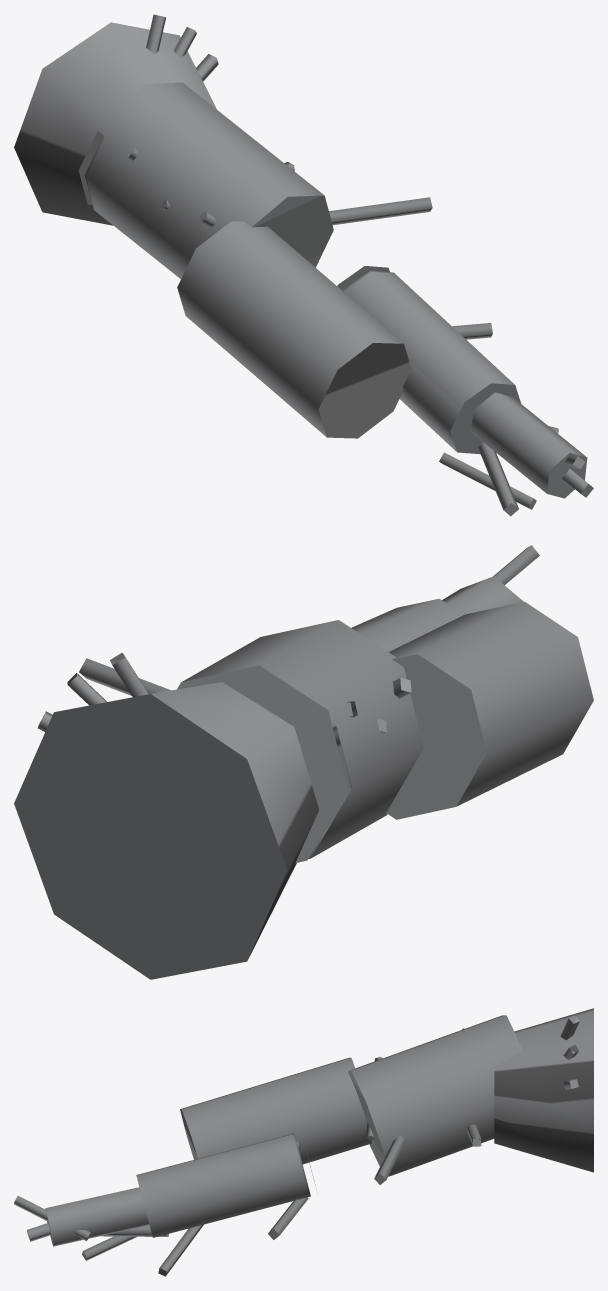
3 views of the same model, one above another, from view 1: azimuth 30°, elevation 25°; view 2: azimuth 150°, elevation 25°; view 3: azimuth 270°, elevation 25° (orthographic). The views are drawn at different scales.
Bounding box in the file's own units: 0.4805 × 0.462 × 1.1.
